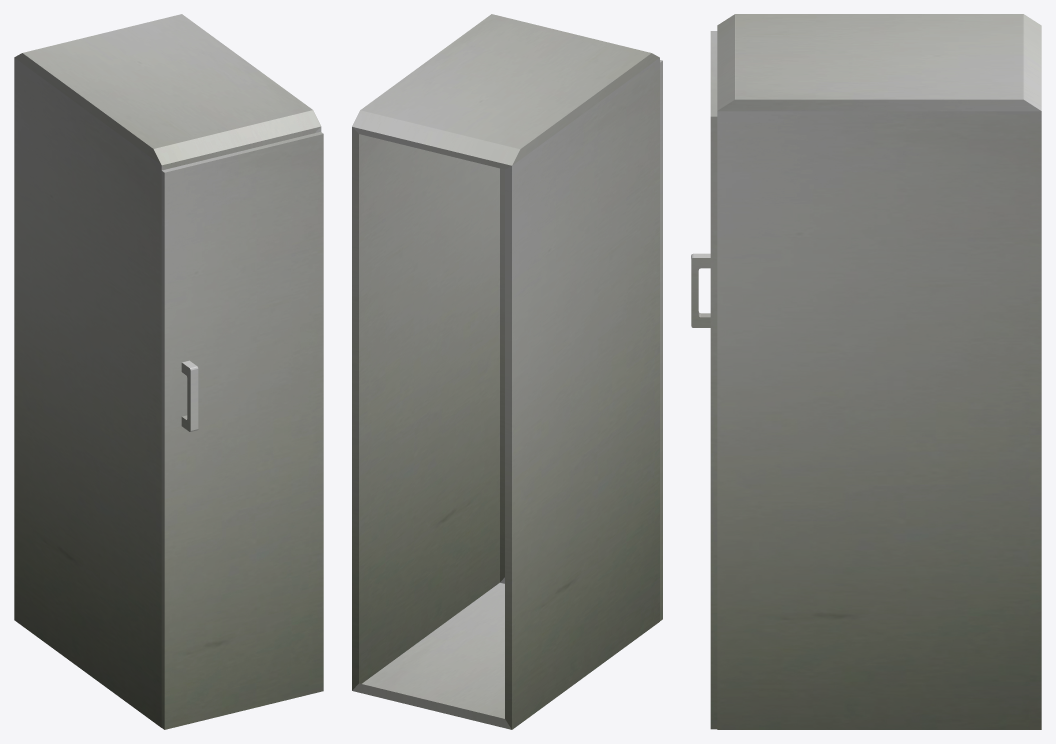
Rendered from jigui.obj.
3 renders of one model, left to right at view 1: azimuth 30°, elevation 25°; view 2: azimuth 150°, elevation 25°; view 3: azimuth 270°, elevation 25°, orthographic. The views are drawn at different scales.
Parts seen in each view (by area): view 1: object 1, Plane001; view 2: object 1, Plane001; view 3: object 1, Plane001.
Boxes of the visible parts, x1,y1,x2,y2 form: object 1: [14, 14, 321, 727]; Plane001: [161, 131, 323, 729]; object 1: [352, 14, 659, 729]; Plane001: [660, 60, 662, 620]; object 1: [717, 14, 1041, 729]; Plane001: [691, 31, 717, 729].
Size of the model in its own units: 60.01 by 206 by 104.
2 materials, 2 textured.
